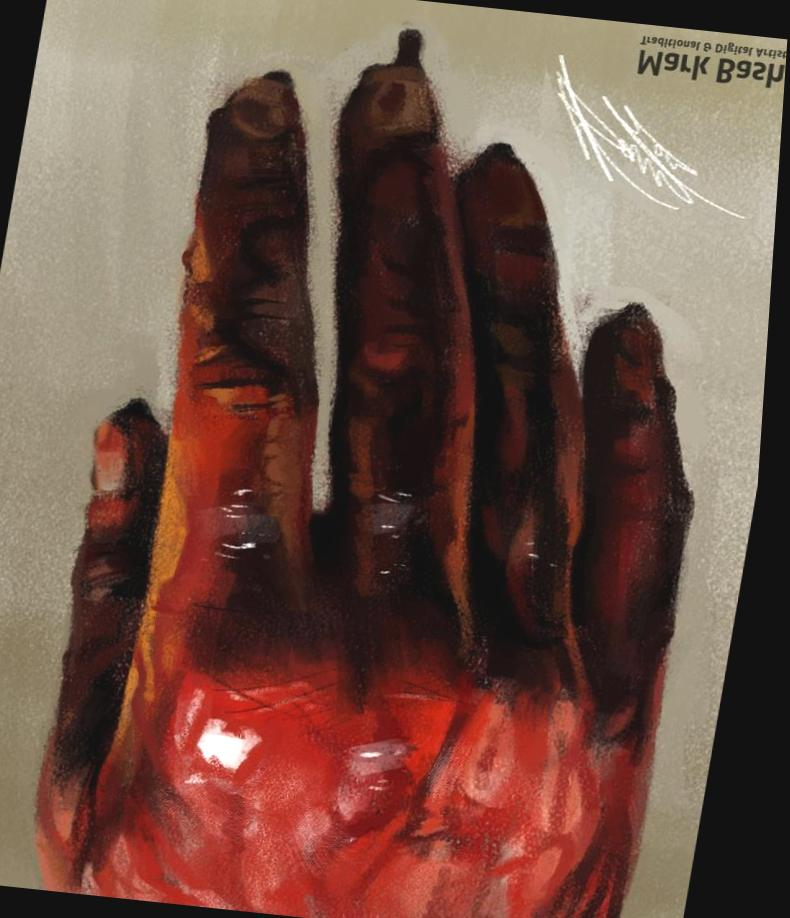Fire: (47, 30, 699, 918)
